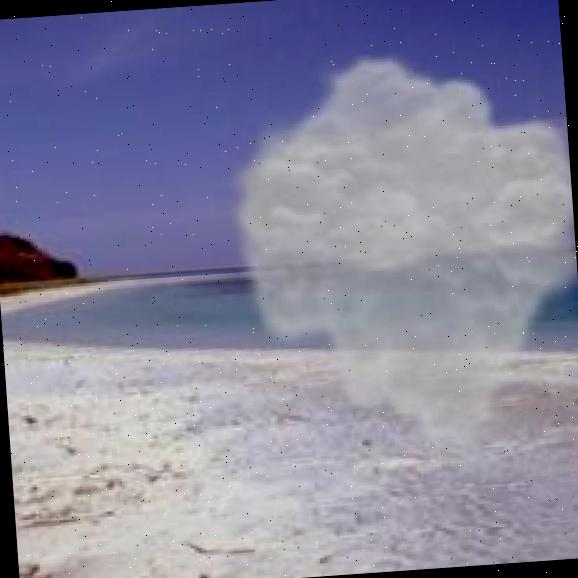smoke: (213, 36, 578, 473)
